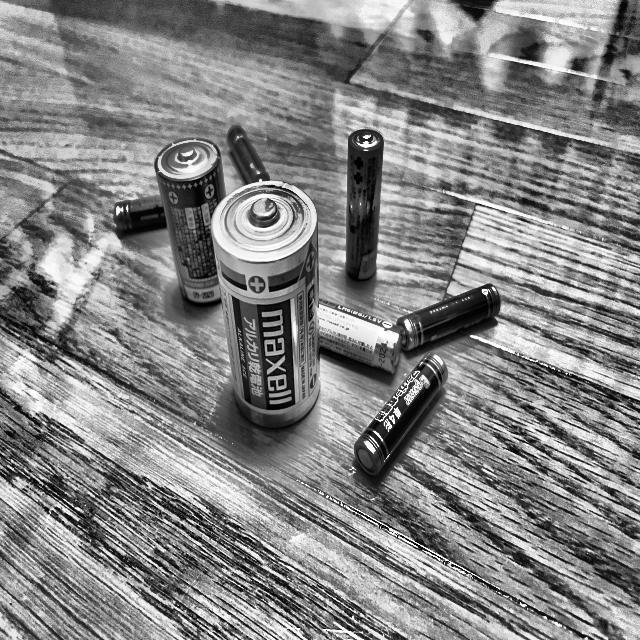drycell: (207, 181, 333, 434), (153, 137, 240, 311), (353, 350, 451, 488), (392, 264, 502, 358), (299, 286, 408, 376), (342, 124, 390, 287), (226, 122, 284, 191), (111, 190, 191, 239)
